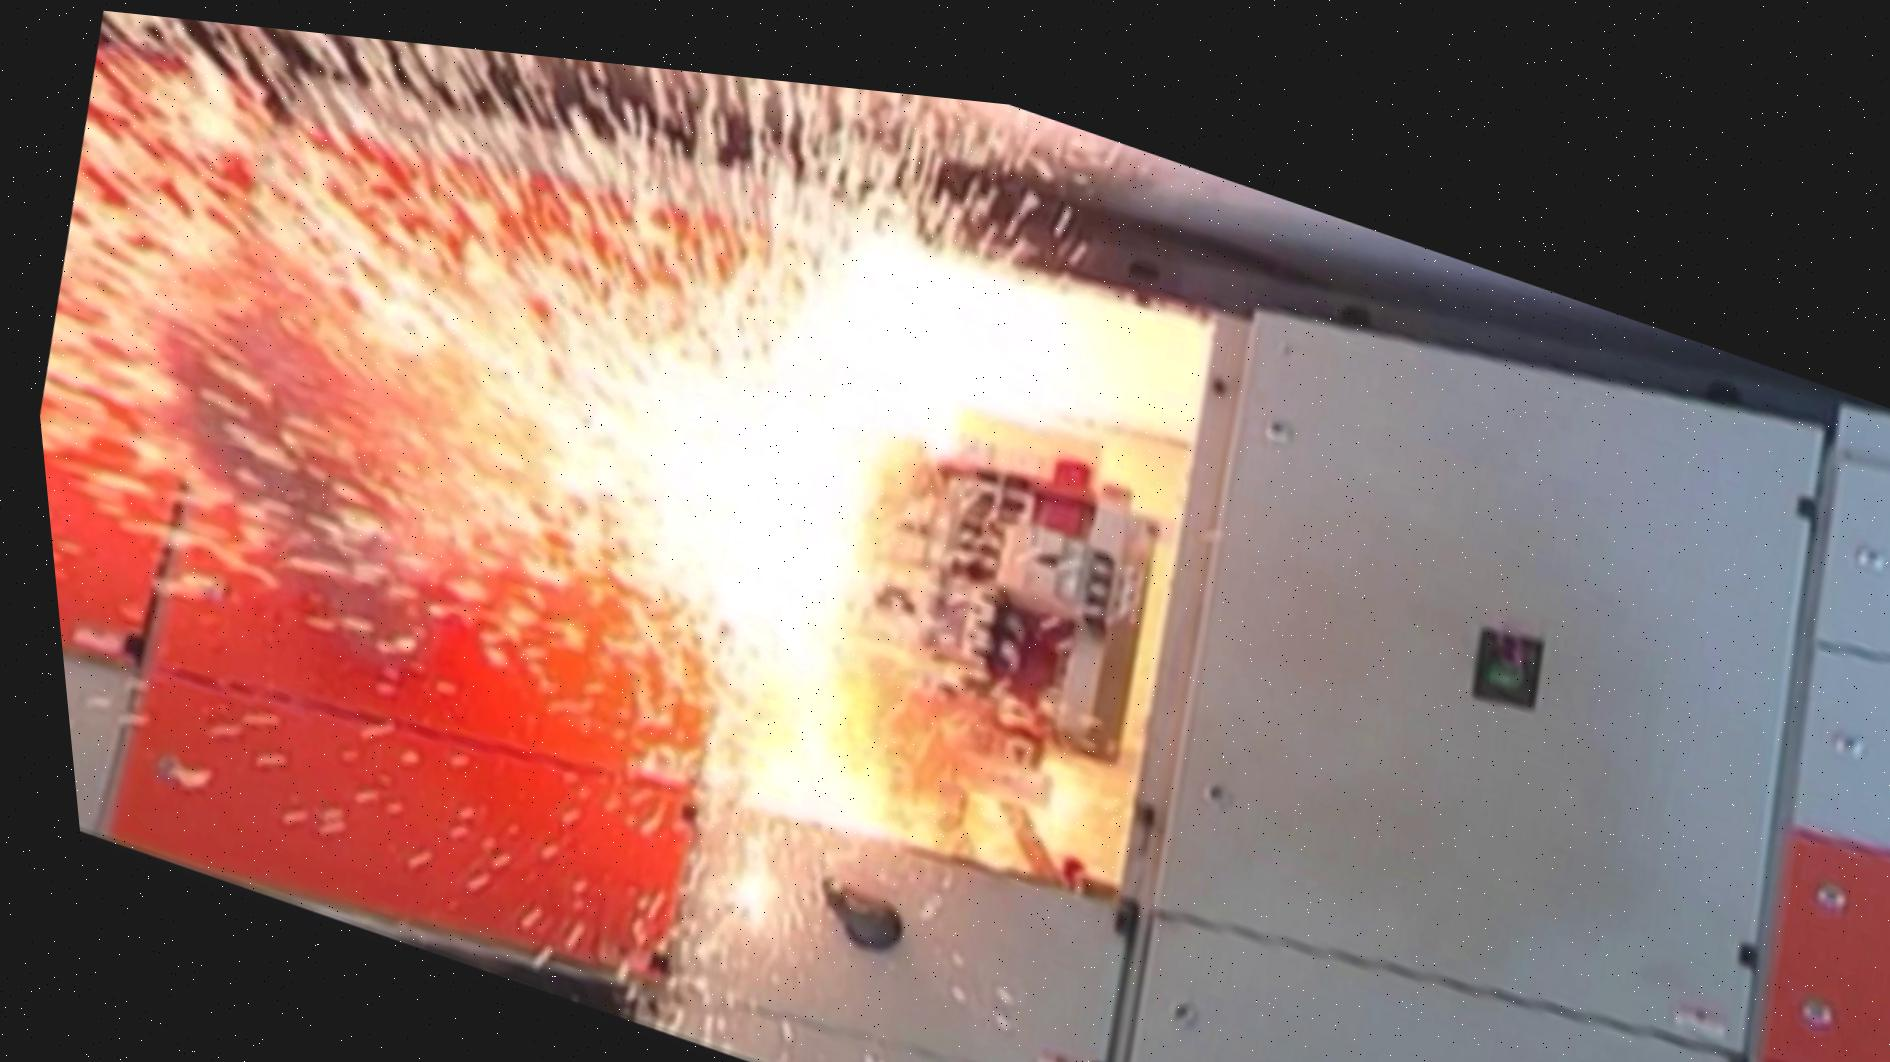fire: (190, 106, 1179, 885)
